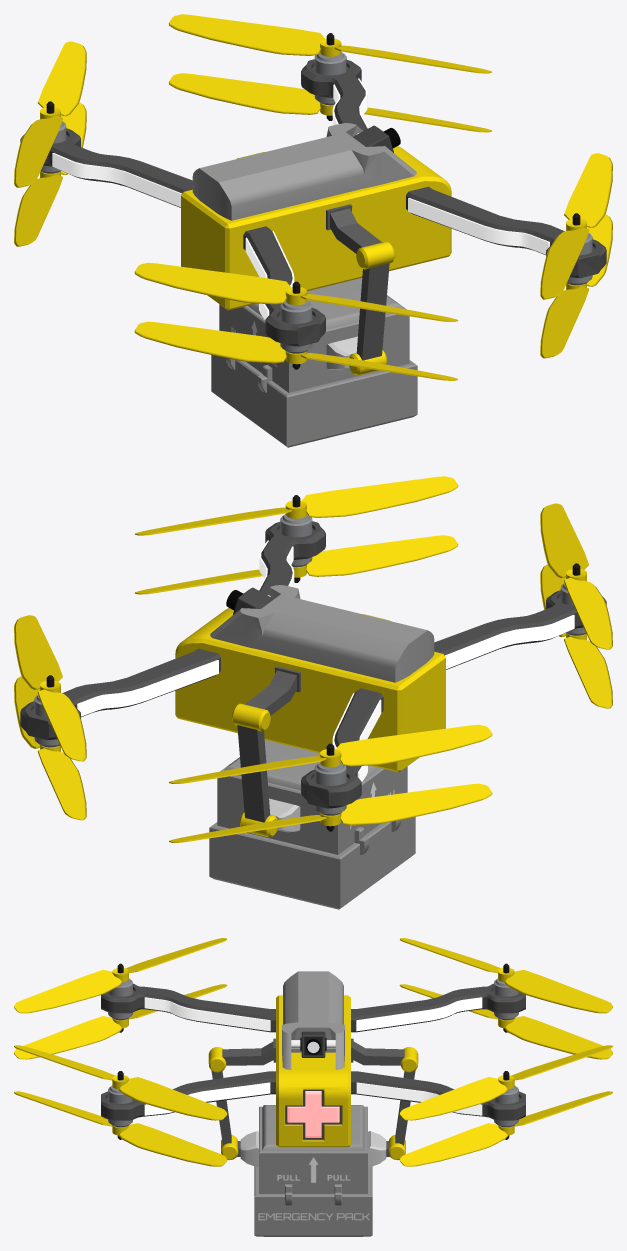
The model's file is response-drone.glb.
The picture shows the model from 3 angles, top to bottom: view 1: azimuth 30°, elevation 25°; view 2: azimuth 150°, elevation 25°; view 3: azimuth 270°, elevation 25°; orthographic projection. The views are drawn at different scales.
Visible parts, largest first — view 1: MagnetArm01MiddlePieceLow; view 2: MagnetArm01MiddlePieceLow; view 3: MagnetArm01MiddlePieceLow.
Boxes of the visible parts, box(x1,y1,x2,y2) form: MagnetArm01MiddlePieceLow: box(14, 14, 612, 447); MagnetArm01MiddlePieceLow: box(14, 476, 612, 909); MagnetArm01MiddlePieceLow: box(14, 938, 612, 1236).
Size of the model in its own units: 1.44 by 0.7655 by 2.
1 material, 1 textured.
